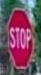Stop-Sign: (6, 8, 34, 69)
